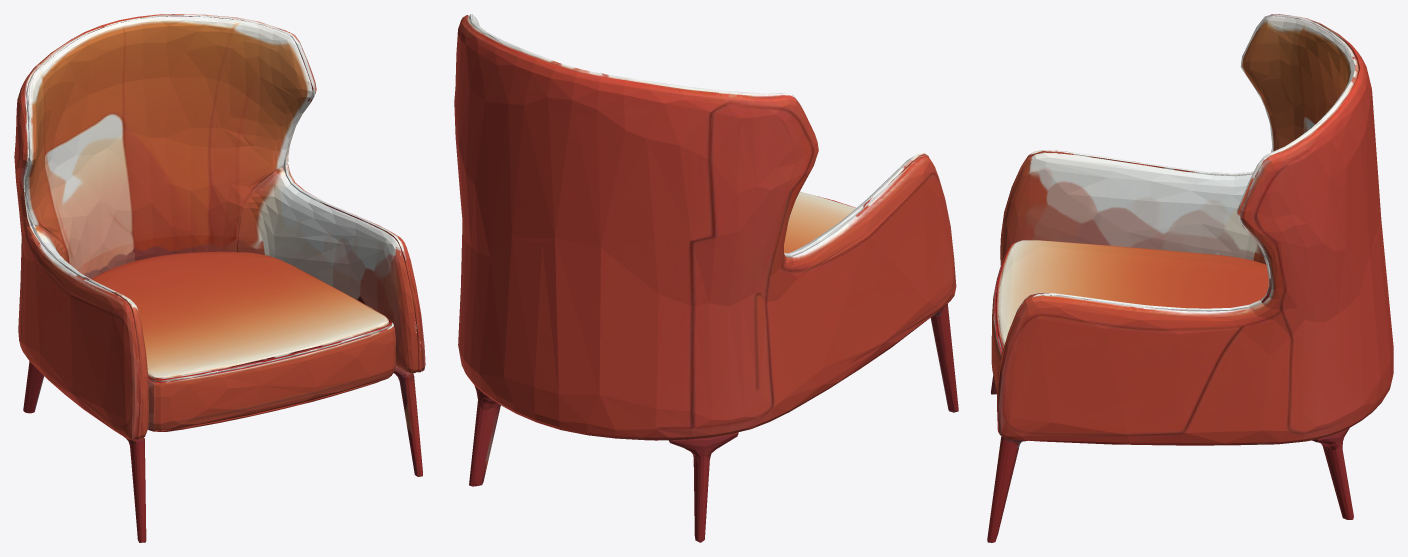
File: edited_mesh.glb
3 views of the same model, side by side, from view 1: azimuth 30°, elevation 25°; view 2: azimuth 150°, elevation 25°; view 3: azimuth 270°, elevation 25° (orthographic). The views are drawn at different scales.
Parts seen in each view (by area): view 1: solid_001_wire; view 2: solid_001_wire; view 3: solid_001_wire.
Part boxes in pixels (left/top/right/bottom): solid_001_wire: left=14, top=14, right=425, bottom=542; solid_001_wire: left=454, top=14, right=958, bottom=542; solid_001_wire: left=987, top=14, right=1393, bottom=542.
Size of the model in its own units: 1.17 by 1.37 by 1.26.
Materials: 1 (1 with a texture image).
